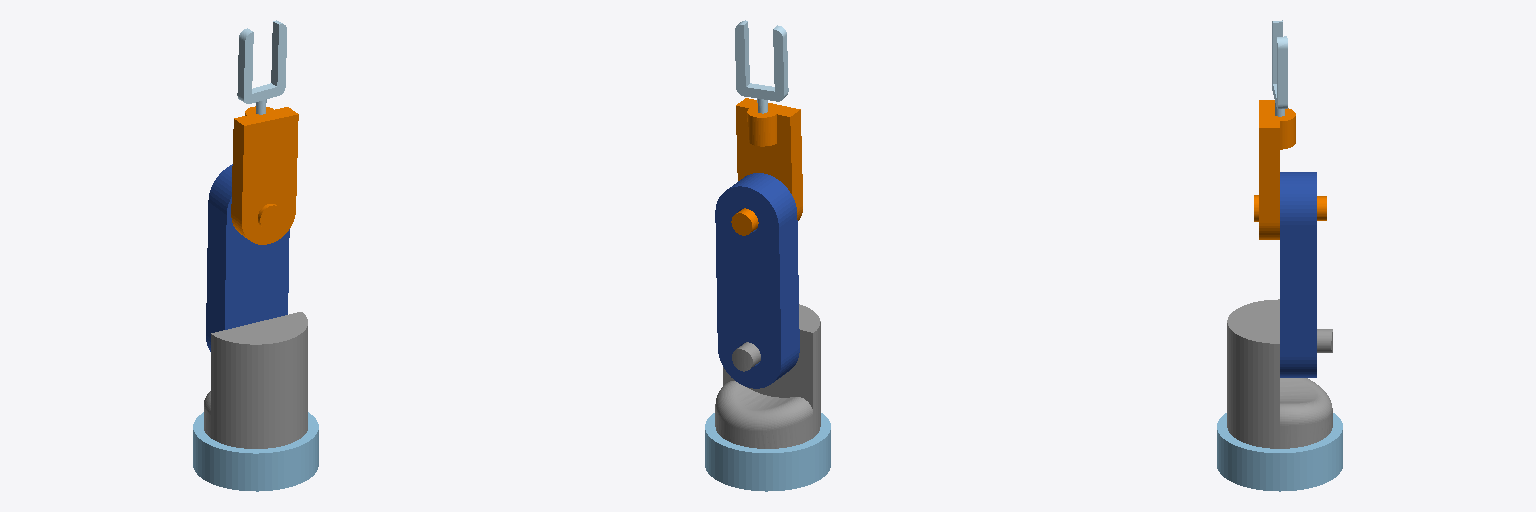
robot.urdf — pkg_04_assembly:
<?xml version="1.0"?>
<robot name="pkg_04_assembly">

    <!-- World anchor -->
    <link name="world"/>

    <!-- Robot root -->
    <link name="root"/>

    <!-- ==================== PART 1 ==================== -->
    <link name="part_1">
        <inertial>
            <mass value="0.199394"/>
            <origin xyz="-8.47886e-19 -2.09486e-34 0.0168487" rpy="0 0 0"/>
            <inertia
                ixx="2.113904e-4"
                ixy="0"
                ixz="0"
                iyy="2.113904e-4"
                iyz="0"
                izz="3.819474e-4"/>
        </inertial>

        <visual>
            <origin xyz="0 0 0" rpy="0 0 0"/>
            <geometry>
                <mesh
                    filename="package://pkg_04_assembly/meshes/Part_1.stl"
                    scale="1 1 1"/>
            </geometry>
            <material name="part_1_material">
                <color rgba="0.615686 0.811765 0.929412 1"/>
            </material>
        </visual>

        <collision>
            <origin xyz="0 0 0" rpy="0 0 0"/>
            <geometry>
                <box size="0.12 0.12 0.04"/>
            </geometry>
        </collision>
    </link>


    <!-- ==================== PART 2 ==================== -->
    <link name="part_2">
        <inertial>
            <mass value="1.788788"/>
            <origin xyz="-6.18219e-13 -0.00903038 0.0514239" rpy="0 0 0"/>
            <inertia
                ixx="3.198229e-3"
                ixy="0"
                ixz="0"
                iyy="3.321539e-3"
                iyz="4.503663e-4"
                izz="2.056987e-3"/>
        </inertial>

        <visual>
            <origin xyz="0 0 -0.03" rpy="0 0 0"/>
            <geometry>
                <mesh
                    filename="package://pkg_04_assembly/meshes/Part_2.stl"
                    scale="1 1 1"/>
            </geometry>
            <material name="part_2_material">
                <color rgba="0.647059 0.647059 0.647059 1"/>
            </material>
        </visual>

        <collision>
            <origin xyz="0 0 -0.03" rpy="0 0 0"/>
            <geometry>
                <box size="0.08 0.08 0.10"/>
            </geometry>
        </collision>
    </link>


    <!-- ==================== PART 3 ==================== -->
    <link name="part_3">
        <inertial>
            <mass value="1.197003"/>
            <origin xyz="-4.98319e-19 0.0175 0.07" rpy="0 0 0"/>
            <inertia
                ixx="3.826329e-3"
                ixy="0"
                ixz="0"
                iyy="4.190018e-3"
                iyz="0"
                izz="6.081043e-4"/>
        </inertial>

        <visual>
            <origin xyz="5.20417e-18 0 -0.13" rpy="0 0 0"/>
            <geometry>
                <mesh
                    filename="package://pkg_04_assembly/meshes/Part_3.stl"
                    scale="1 1 1"/>
            </geometry>
            <material name="part_3_material">
                <color rgba="0.231373 0.380392 0.705882 1"/>
            </material>
        </visual>

        <collision>
            <origin xyz="0 0 -0.13" rpy="0 0 0"/>
            <geometry>
                <box size="0.07 0.07 0.14"/>
            </geometry>
        </collision>
    </link>


    <!-- ==================== PART 4 ==================== -->
    <link name="part_4">
        <inertial>
            <mass value="0.053478"/>
            <origin xyz="4.91126e-17 -5.55871e-20 0.0563321" rpy="0 0 0"/>
            <inertia
                ixx="3.748656e-5"
                ixy="0"
                ixz="0"
                iyy="5.343628e-5"
                iyz="0"
                izz="1.681456e-5"/>
        </inertial>

        <visual>
            <origin xyz="0 -3.06162e-19 -0.355" rpy="0 0 0"/>
            <geometry>
                <mesh
                    filename="package://pkg_04_assembly/meshes/Part_4.stl"
                    scale="1 1 1"/>
            </geometry>
            <material name="part_4_material">
                <color rgba="0.768627 0.886275 0.952941 1"/>
            </material>
        </visual>

        <collision>
            <origin xyz="0 0 -0.355" rpy="0 0 0"/>
            <geometry>
                <box size="0.08 0.08 0.07"/>
            </geometry>
        </collision>
    </link>


    <!-- ==================== PART 5 ==================== -->
    <link name="part_5">
        <inertial>
            <mass value="0.482895"/>
            <origin xyz="0.000328304 -0.00586971 0.0359631" rpy="0 0.00912865 0"/>
            <inertia
                ixx="7.319371e-4"
                ixy="3.181165e-7"
                ixz="-4.913807e-6"
                iyy="7.741030e-4"
                iyz="3.484726e-5"
                izz="1.937143e-4"/>
        </inertial>

        <visual>
            <origin xyz="-0.0024647 0 -0.269989" rpy="0 0.00912865 0"/>
            <geometry>
                <mesh
                    filename="package://pkg_04_assembly/meshes/Part_5.stl"
                    scale="1 1 1"/>
            </geometry>
            <material name="part_5_material">
                <color rgba="0.972549 0.529412 0.00392157 1"/>
            </material>
        </visual>

        <collision>
            <origin xyz="-0.0024647 0 -0.269989" rpy="0 0.00912865 0"/>
            <geometry>
                <box size="0.06 0.06 0.085"/>
            </geometry>
        </collision>
    </link>


    <!-- ==================== WORLD → ROOT ==================== -->
    <joint name="world_to_root" type="fixed">
        <parent link="world"/>
        <child link="root"/>
        <origin xyz="0 0 0" rpy="0 0 0"/>
    </joint>


    <!-- ==================== ROOT → PART 1 ==================== -->
    <joint name="fixed_node_to_root_joint" type="fixed">
        <origin xyz="0 0 0" rpy="0 0 0"/>
        <parent link="root"/>
        <child link="part_1"/>
    </joint>


    <!-- ==================== PART 1 → PART 2 ==================== -->
    <joint name="revolute_1" type="revolute">
        <origin
            xyz="0 -2.77556e-17 0.03"
            rpy="5.83202e-22 2.77556e-17 1.44329e-15"/>
        <axis xyz="0 0 -1"/>
        <parent link="part_1"/>
        <child link="part_2"/>
        <limit
            effort="8"
            velocity="1.5"
            lower="-3.14159"
            upper="3.14159"/>
    </joint>


    <!-- ==================== PART 2 → PART 3 ==================== -->
    <joint name="revolute_2" type="revolute">
        <origin
            xyz="8.32667e-17 2.77556e-17 0.1"
            rpy="-1.72114e-17 0.0191658 1.44221e-15"/>
        <axis xyz="0 -1 0"/>
        <parent link="part_2"/>
        <child link="part_3"/>
        <limit
            effort="20"
            velocity="1"
            lower="-1.83088"
            upper="1.86921"/>
    </joint>


    <!-- ==================== PART 3 → PART 5 ==================== -->
    <joint name="revolute_3" type="revolute">
        <origin
            xyz="-1.66533e-16 2.77556e-17 0.14"
            rpy="-1.1864e-15 2.7426e-15 -3.61407e-16"/>
        <axis xyz="0 1 0"/>
        <parent link="part_3"/>
        <child link="part_5"/>
        <limit
            effort="12"
            velocity="1"
            lower="-2.38278"
            upper="2.36452"/>
    </joint>


    <!-- ==================== PART 5 → PART 4 ==================== -->
    <joint name="revolute_4" type="revolute">
        <origin
            xyz="0.000775924 1.66533e-16 0.0849965"
            rpy="0.0010424 0.00906894 0.114441"/>
        <axis xyz="0 0 -1"/>
        <parent link="part_5"/>
        <child link="part_4"/>
        <limit
            effort="3"
            velocity="2"
            lower="-3.14159"
            upper="3.14159"/>

    </joint>
<ros2_control name="GazeboSystem" type="system">

    <hardware>
        <plugin>gz_ros2_control/GazeboSimSystem</plugin>
    </hardware>

    <joint name="revolute_1">
        <command_interface name="position"/>
        <state_interface name="position"/>
        <state_interface name="velocity"/>
    </joint>

    <joint name="revolute_2">
        <command_interface name="position"/>
        <state_interface name="position"/>
        <state_interface name="velocity"/>
    </joint>

    <joint name="revolute_3">
        <command_interface name="position"/>
        <state_interface name="position"/>
        <state_interface name="velocity"/>
    </joint>

    <joint name="revolute_4">
        <command_interface name="position"/>
        <state_interface name="position"/>
        <state_interface name="velocity"/>
    </joint>

</ros2_control>

<gazebo>
    <plugin
        filename="gz-sim-joint-position-controller-system"
        name="gz::sim::systems::JointPositionController">

        <joint_name>revolute_1</joint_name>

        <topic>/arm/j1/cmd</topic>

        <p_gain>5</p_gain>
        <i_gain>0</i_gain>
        <d_gain>0.5</d_gain>
    </plugin>
</gazebo>
<gazebo>
    <plugin
        filename="gz-sim-joint-position-controller-system"
        name="gz::sim::systems::JointPositionController">

        <joint_name>revolute_2</joint_name>
        <topic>/arm/j2/cmd</topic>

        <p_gain>15</p_gain>
        <i_gain>0</i_gain>
        <d_gain>1.5</d_gain>
    </plugin>
</gazebo>
<gazebo>
    <plugin
        filename="gz-sim-joint-position-controller-system"
        name="gz::sim::systems::JointPositionController">

        <joint_name>revolute_3</joint_name>
        <topic>/arm/j3/cmd</topic>

        <p_gain>10</p_gain>
        <i_gain>0</i_gain>
        <d_gain>1.0</d_gain>
    </plugin>
</gazebo>

<gazebo>
    <plugin
        filename="gz-sim-joint-position-controller-system"
        name="gz::sim::systems::JointPositionController">

        <joint_name>revolute_4</joint_name>
        <topic>/arm/j4/cmd</topic>

        <p_gain>5</p_gain>
        <i_gain>0</i_gain>
        <d_gain>0.5</d_gain>
    </plugin>
</gazebo>

</robot>

--- Render facts (derived) ---
3 views of the same robot in one strip: view 1: azimuth 30°, elevation 25°; view 2: azimuth 150°, elevation 25°; view 3: azimuth 270°, elevation 25° (orthographic).
Model pkg_04_assembly with 7 links and 6 joints (4 revolute, 2 fixed), rooted at world, posed every joint at zero.
Visible links, largest first — view 1: part_2, part_3, part_5, part_1, part_4; view 2: part_3, part_2, part_1, part_5, part_4; view 3: part_2, part_3, part_1, part_5, part_4.
Link boxes in pixels (x1,y1,x2,y2): part_2: [204, 312, 307, 448]; part_3: [206, 164, 289, 351]; part_5: [231, 106, 298, 244]; part_1: [193, 412, 318, 491]; part_4: [237, 20, 286, 114]; part_3: [715, 173, 799, 388]; part_2: [715, 304, 820, 448]; part_1: [705, 413, 830, 491]; part_5: [731, 98, 802, 235]; part_4: [735, 20, 788, 113]; part_2: [1227, 299, 1332, 448]; part_3: [1280, 172, 1316, 377]; part_1: [1217, 413, 1342, 491]; part_5: [1254, 100, 1326, 239]; part_4: [1272, 20, 1287, 116].
Size in the robot's own frame: 0.12 by 0.1198 by 0.4604 metres.
Meshes: 5 distinct files referenced, 5 mesh visuals loaded (5 binary STL).
